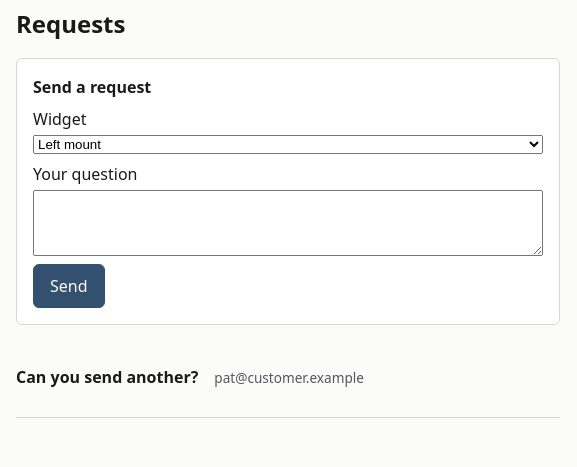
the requests page and its one write › says what is missing and sends nothing when the words are empty
Click the button "Send".
click(69, 286)  # box x1=33 y1=264 x2=104 y2=308
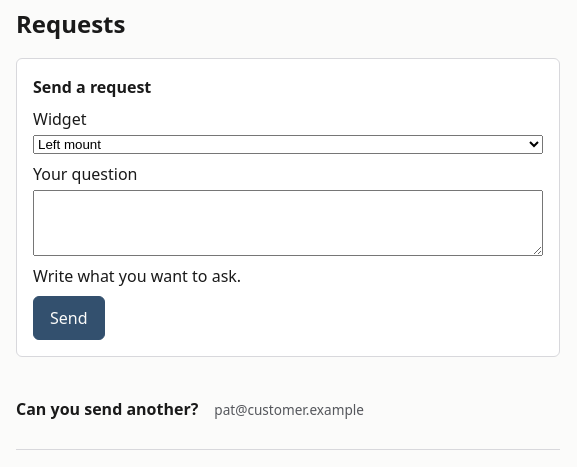
Now the text "Write what you want to ask." is shown, box x1=33 y1=265 x2=241 y2=287
